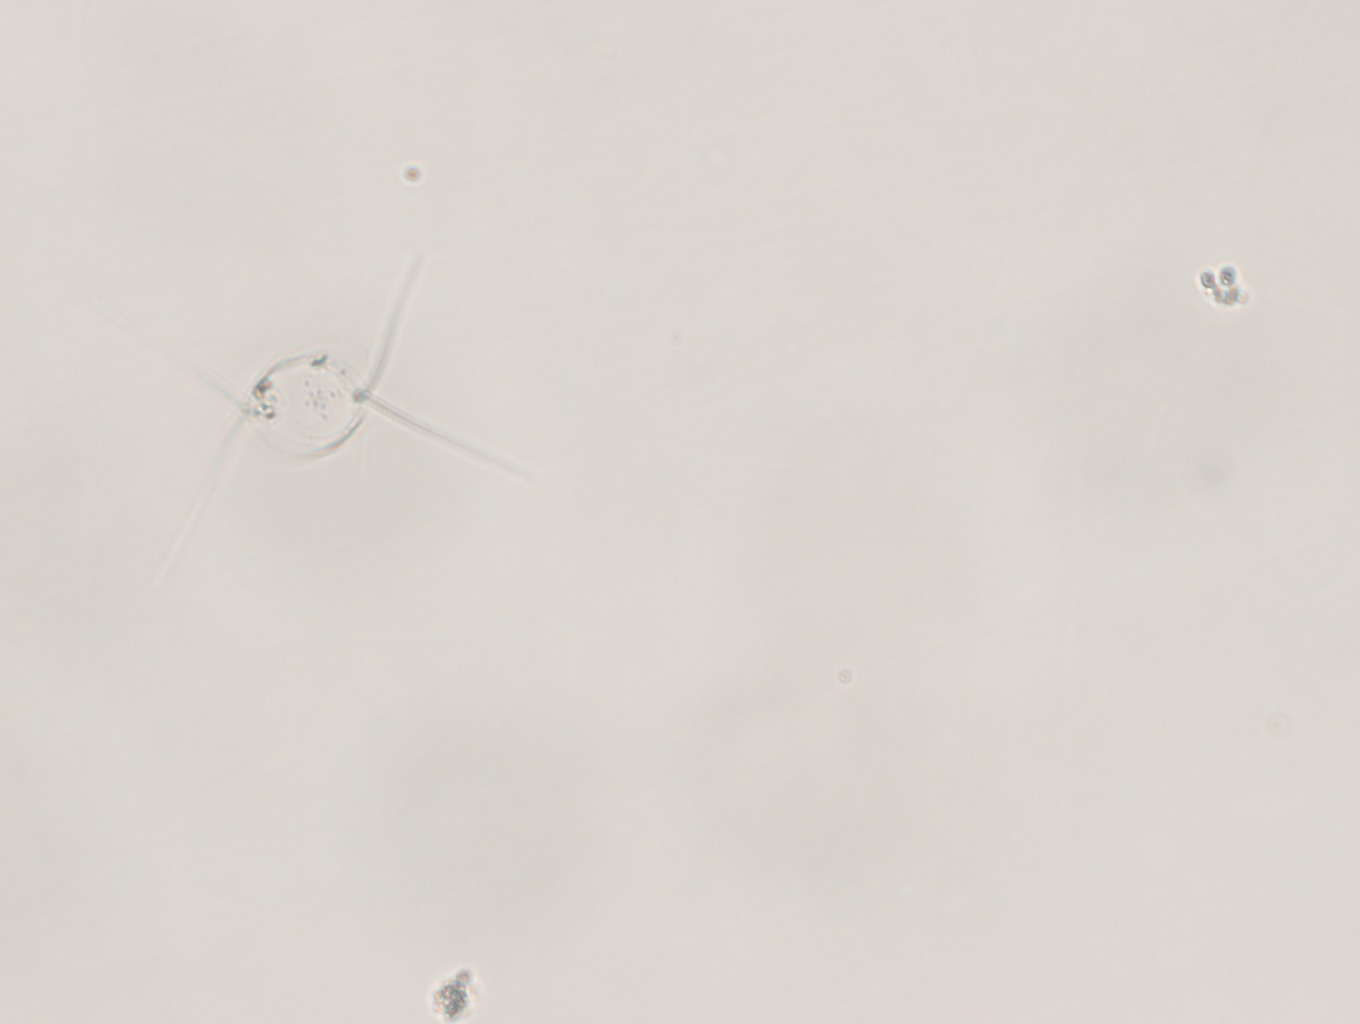chaetoceros: (94, 253, 558, 552)
